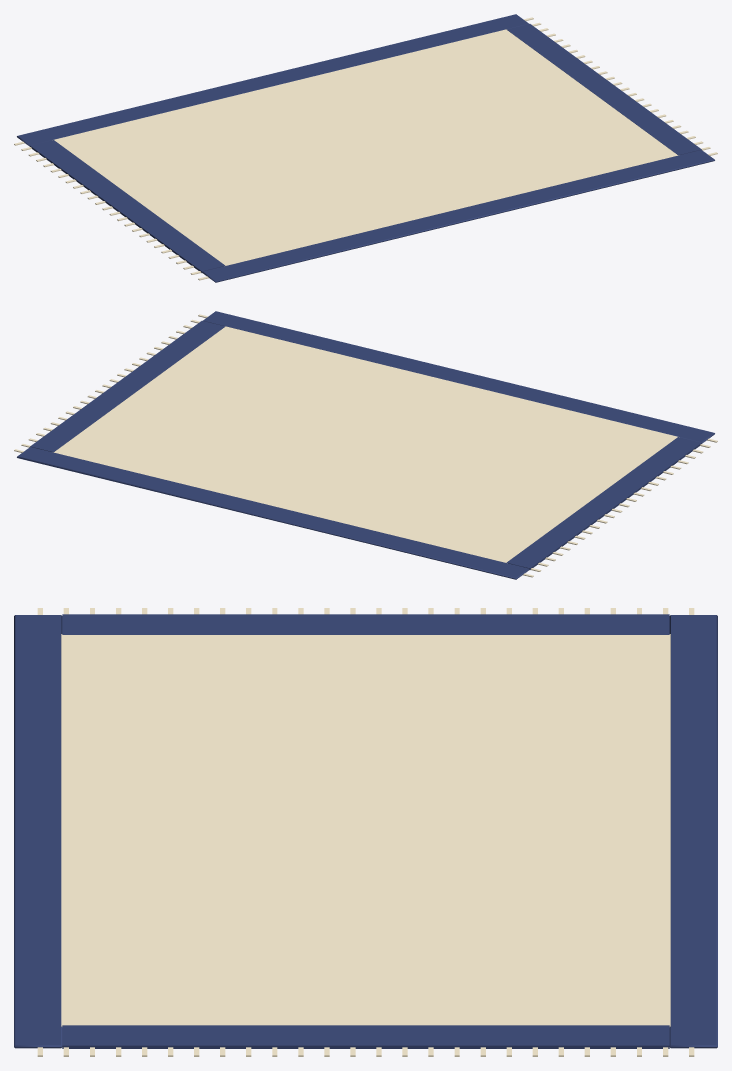
File: rug_rect.glb
The picture shows the model from 3 angles, top to bottom: view 1: azimuth 30°, elevation 25°; view 2: azimuth 150°, elevation 25°; view 3: azimuth 270°, elevation 25°; orthographic projection. The views are drawn at different scales.
Parts seen in each view (by area): view 1: fabric_rug, rug_border; view 2: fabric_rug, rug_border; view 3: fabric_rug, rug_border.
Part boxes in pixels (x1,y1,x2,y2): fabric_rug: (14, 17, 717, 280); rug_border: (17, 14, 714, 282); fabric_rug: (14, 314, 717, 577); rug_border: (17, 311, 714, 579); fabric_rug: (37, 608, 694, 1056); rug_border: (14, 614, 717, 1048).
Bounding box in the file's own units: 2.4 × 0.008 × 1.6.
